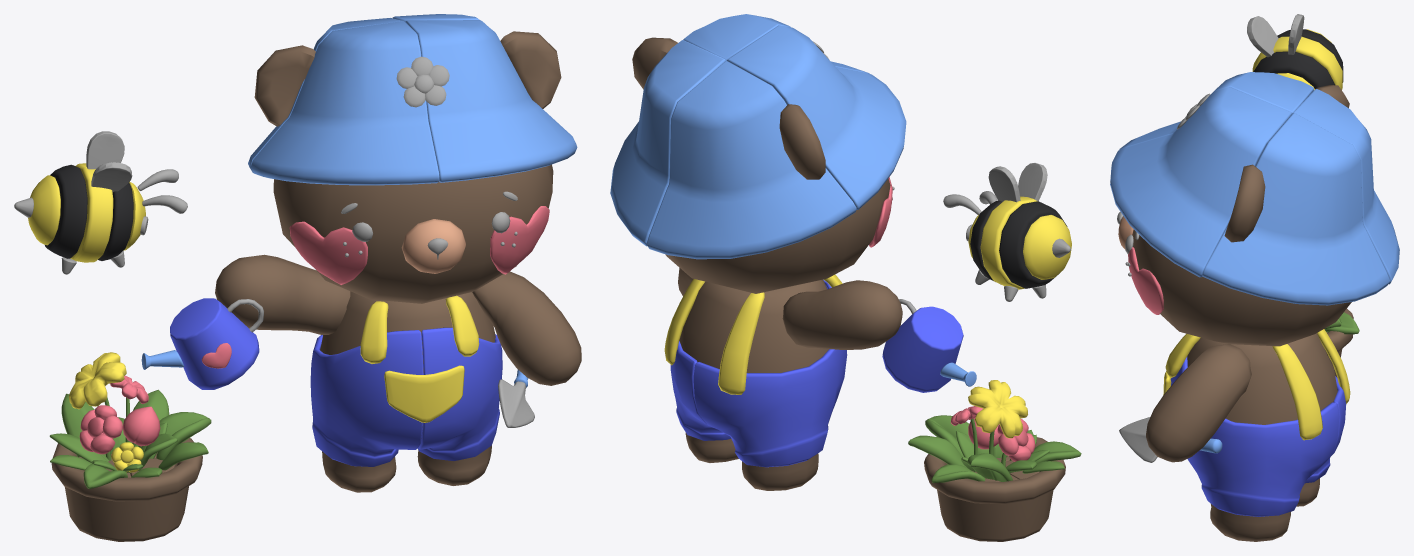
File: watering_flower_vs02.fbx
3 views of the same model, side by side, from view 1: azimuth 30°, elevation 25°; view 2: azimuth 150°, elevation 25°; view 3: azimuth 270°, elevation 25° (orthographic). The views are drawn at different scales.
Parts seen in each view (by area): view 1: S_Watering_flower, M_Watering_flower, D_Watering_Flower_6, S_Watering_flower_, D_Watering_flower_2, D_Watering_flower_1; view 2: S_Watering_flower, M_Watering_flower, S_Watering_flower_, D_Watering_flower_1, D_Watering_flower_2; view 3: S_Watering_flower, D_Watering_flower_1, D_Watering_flower_2.
Part boxes in pixels (bbox=[...]): S_Watering_flower: bbox=[28, 14, 581, 541]; M_Watering_flower: bbox=[170, 298, 259, 389]; D_Watering_Flower_6: bbox=[396, 56, 449, 107]; S_Watering_flower_: bbox=[49, 397, 177, 472]; D_Watering_flower_2: bbox=[86, 131, 124, 169]; D_Watering_flower_1: bbox=[91, 162, 132, 192]; S_Watering_flower: bbox=[610, 14, 1081, 541]; M_Watering_flower: bbox=[882, 306, 963, 392]; S_Watering_flower_: bbox=[956, 418, 1049, 473]; D_Watering_flower_1: bbox=[1018, 163, 1047, 201]; D_Watering_flower_2: bbox=[988, 166, 1020, 202]; S_Watering_flower: bbox=[1110, 29, 1399, 541]; D_Watering_flower_1: bbox=[1247, 16, 1278, 57]; D_Watering_flower_2: bbox=[1288, 14, 1304, 54].
Bounding box in the file's own units: 862 × 749 × 463.
